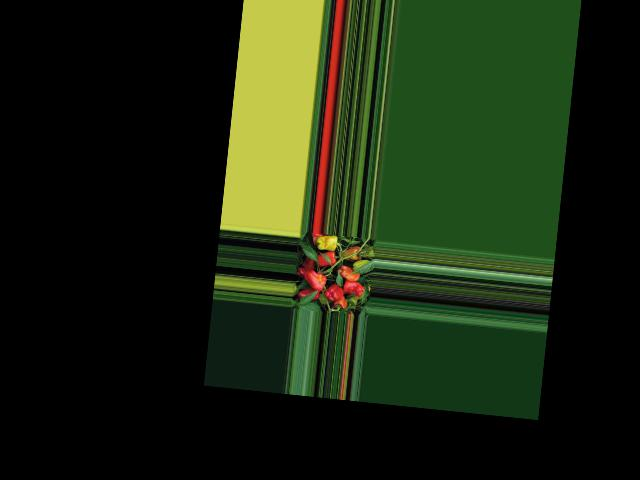bell_pepper: (336, 296, 347, 310)
